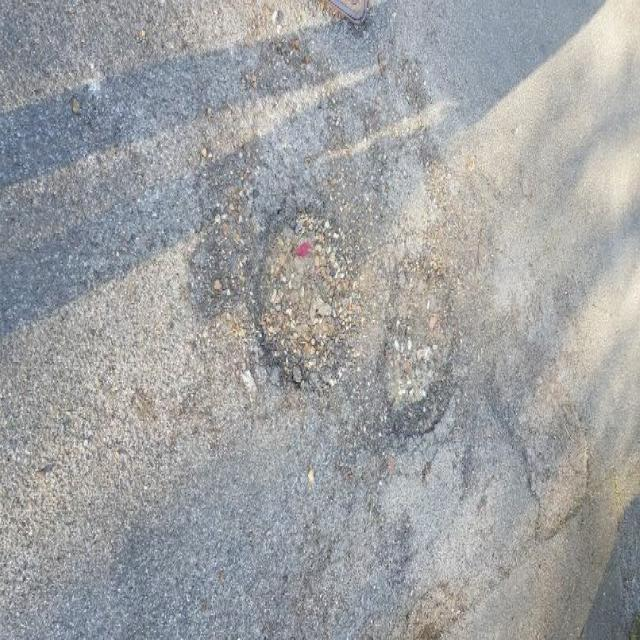pothole: (250, 199, 358, 390), (377, 242, 464, 449)
